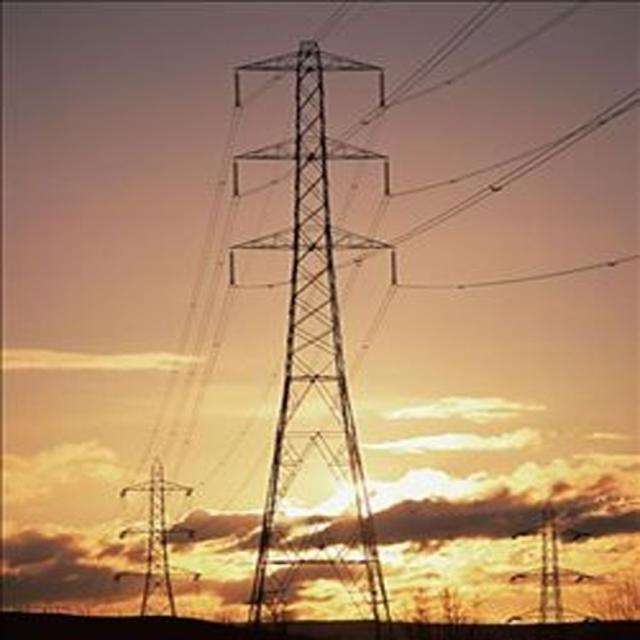non-critical vegetation: (222, 31, 416, 623), (115, 452, 204, 618)
